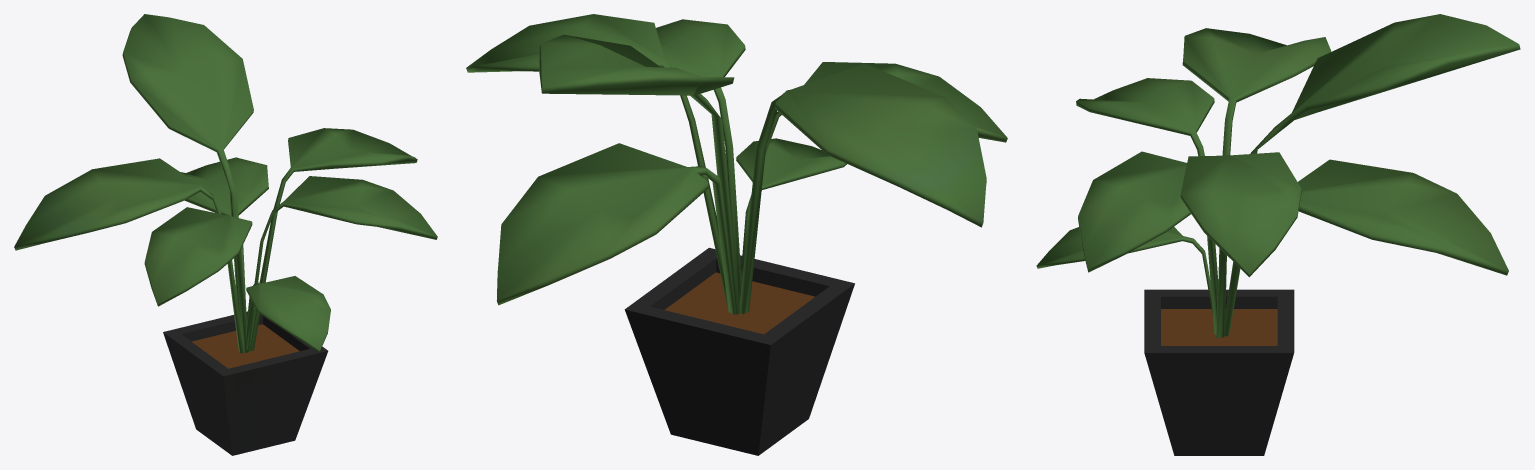
File: ArtificialPlant.glb
The picture shows the model from 3 angles, left to right: view 1: azimuth 30°, elevation 25°; view 2: azimuth 150°, elevation 25°; view 3: azimuth 270°, elevation 25°; orthographic projection. The views are drawn at different scales.
Parts seen in each view (by area): view 1: ArtificialPlant; view 2: ArtificialPlant; view 3: ArtificialPlant.
Boxes of the visible parts, x1=… form: ArtificialPlant: x1=14, y1=14, x2=437, y2=455; ArtificialPlant: x1=466, y1=14, x2=1007, y2=455; ArtificialPlant: x1=1036, y1=14, x2=1520, y2=455.
Size of the model in its own units: 1.91 by 1.55 by 1.67.
Materials: 1 (1 with a texture image).
